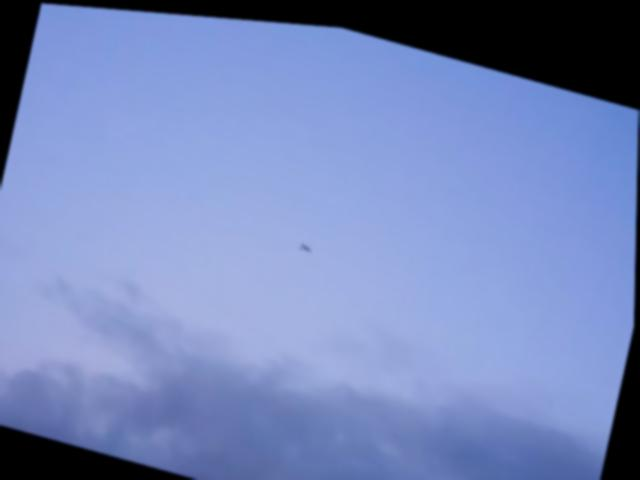uav: (295, 232, 318, 251)
